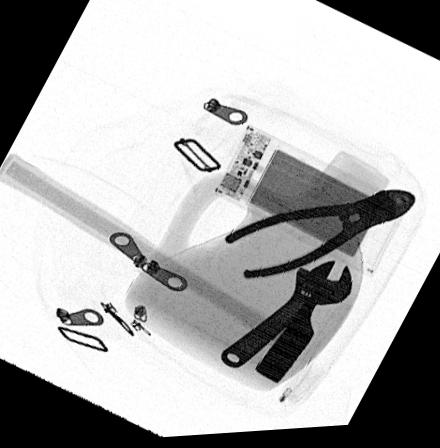Hammer: (0, 153, 325, 386)
Pliers: (223, 194, 416, 283)
Powerbank: (213, 126, 408, 281)
Wrench: (221, 263, 353, 373)
